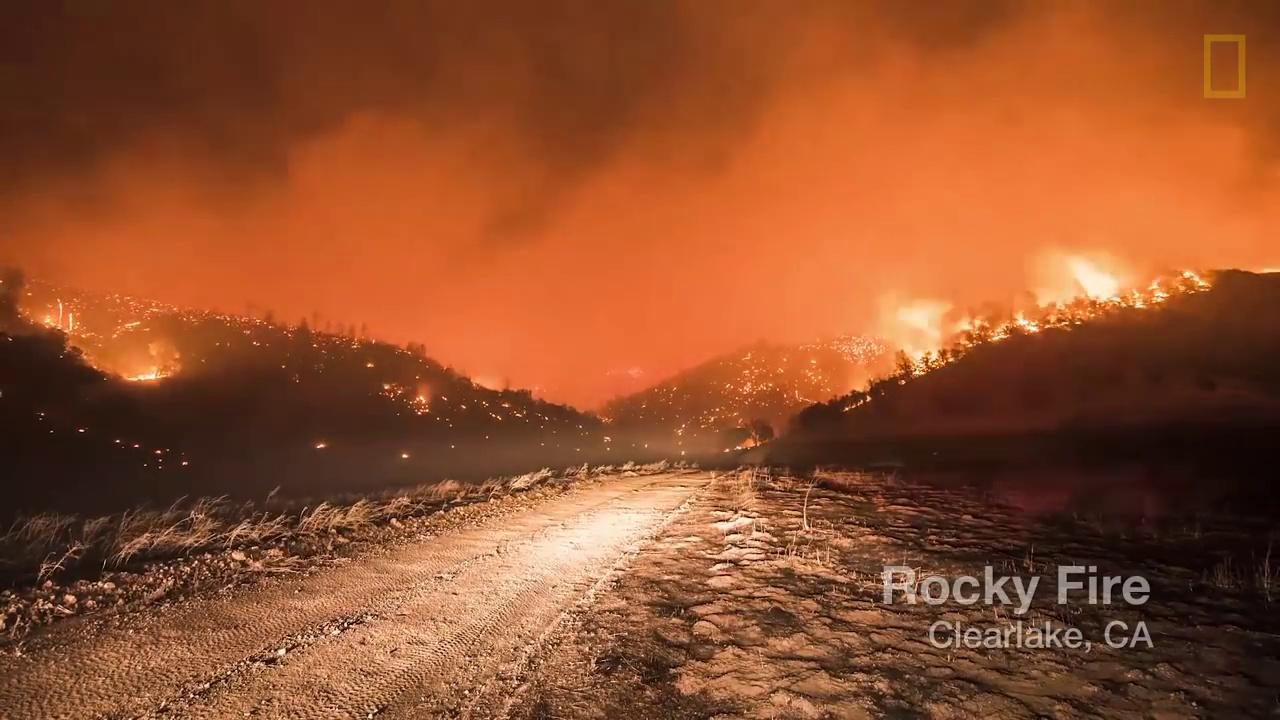Fire: (869, 244, 1223, 393), (677, 350, 778, 450), (107, 290, 269, 341), (802, 331, 879, 369), (44, 297, 95, 337), (121, 367, 183, 382), (844, 396, 874, 415), (408, 395, 431, 417)
